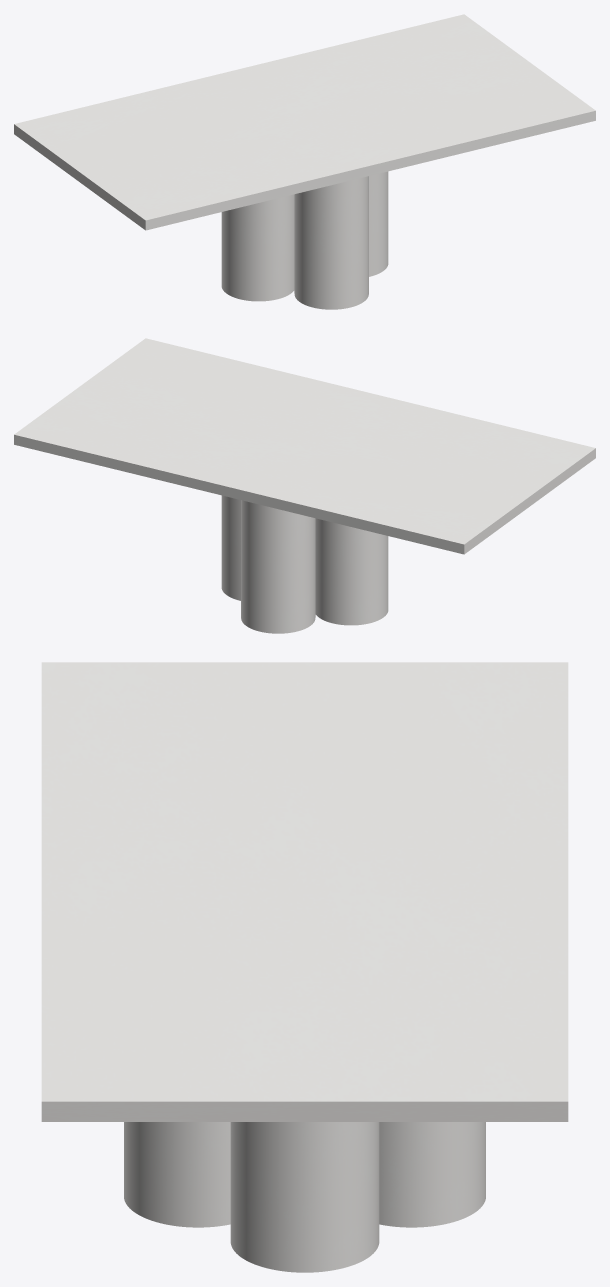
The model's file is purewhite_recta_standard_secondtable.glb.
3 views of the same model, one above another, from view 1: azimuth 30°, elevation 25°; view 2: azimuth 150°, elevation 25°; view 3: azimuth 270°, elevation 25° (orthographic). The views are drawn at different scales.
Visible parts, largest first — view 1: standard_recta, secondtable; view 2: standard_recta, secondtable; view 3: standard_recta, secondtable.
Part boxes in pixels (x1,y1,x2,y2): standard_recta: (14,14,595,230); secondtable: (221,171,388,309); standard_recta: (14,338,595,554); secondtable: (221,495,388,633); standard_recta: (41,662,568,1121); secondtable: (124,1122,485,1272).
Size of the model in its own units: 7.5 by 2.5 by 3.8.
Materials: 1 (1 with a texture image).
